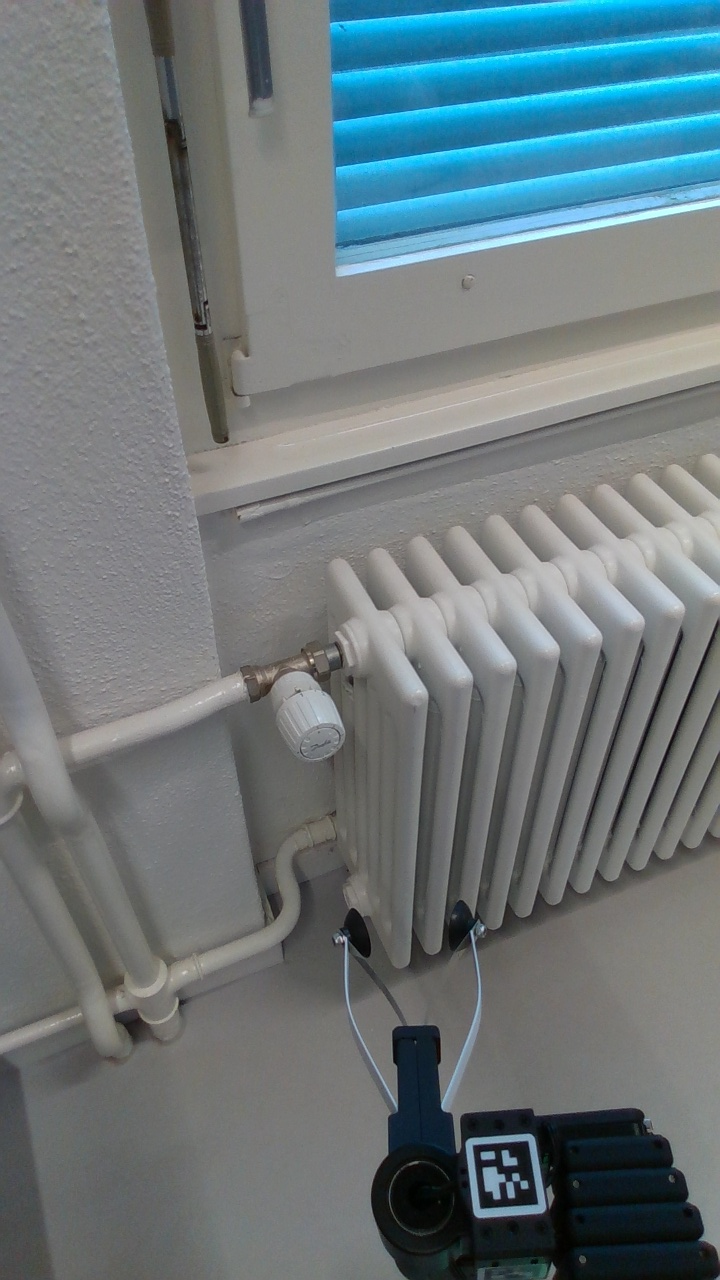Knob_Radiator: (260, 650, 353, 775)
Radiator: (315, 435, 716, 981)
